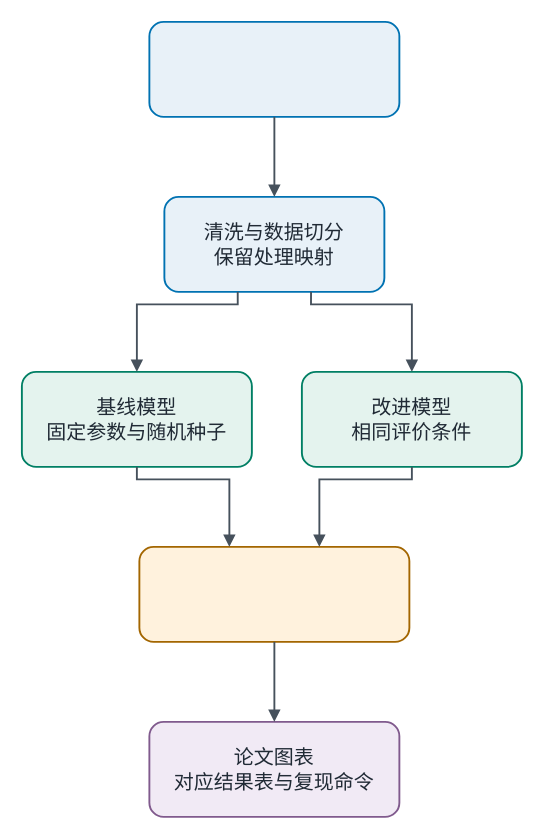
Image size: 545x840. Some labels were removed from this diagram. Here are the shapes that lost their labels. From the top down, the centre of each, then its label:
At point (274, 68): "输入数据 记录来源、单位与哈希".
At point (274, 593): "验证与比较 残差、失败案例、敏感性".
